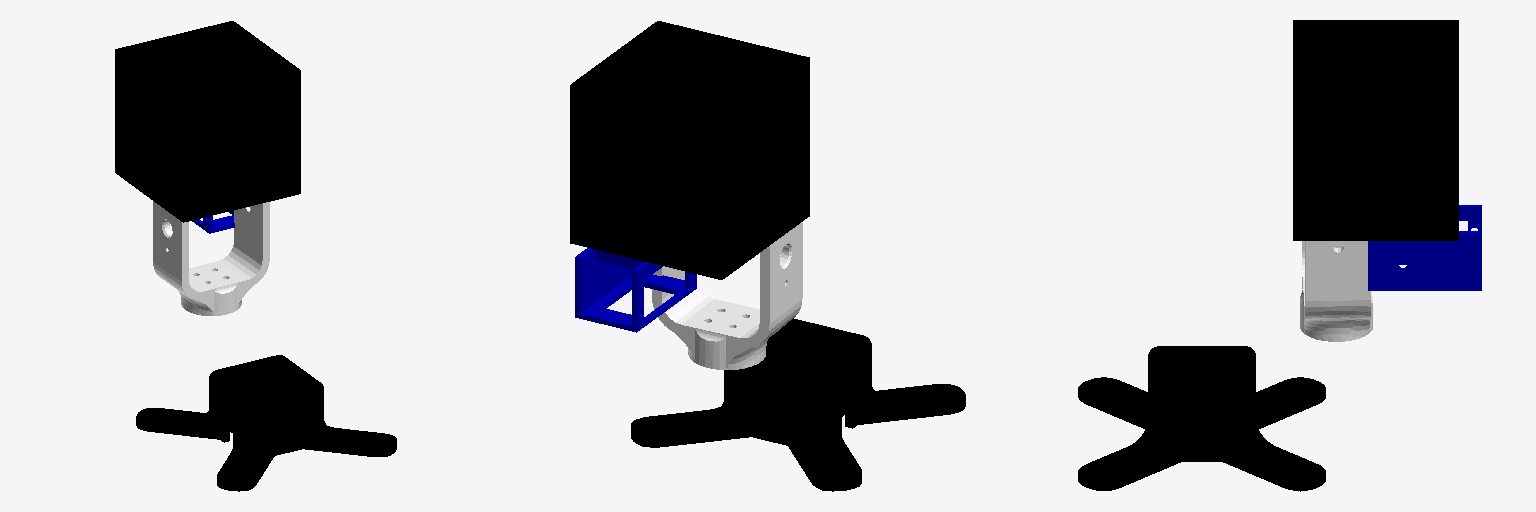
URDF robot description (headv1):
<?xml version="1.0"?>
<robot name="headv1">

<material name="blue">
    <color rgba="0 0 0.8 1"/>
  </material>
  <material name="black">
    <color rgba="0 0 0 1"/>
  </material>
  <material name="white">
    <color rgba="1 1 1 1"/>
  </material>

  <link name="base">
    <visual>
      <origin
        xyz="0 0 0"
        rpy="0 0 0" />
      <geometry>
        <mesh filename="package://headv1/meshes/base.dae" />
      </geometry>
      <material name="black"/>
    </visual>
  </link>
  
  <link name="mid">
    <visual>
      <origin xyz="0 -0.005 0.06" rpy="0 0 0" />
      <geometry>
        <mesh filename="package://headv1/meshes/mid.dae" />
      </geometry>
      <material name="white"/>
    </visual>
  </link>
  
  <joint name="base_to_mid" type="revolute">
    <origin
      xyz="0 0.06678 0"
      rpy="0 0 0" />
    <parent link="base" />
    <child link="mid" />
    <axis xyz="0 1 0" />
    <limit
      lower="-3.14"
      upper="3.14"
      effort="1"
      velocity="3.14" />
  </joint>
  
  <link name="servo">
    <visual>
      <origin
        xyz="0.02 0.03 0.1"
        rpy="1.57075 0 -1.57075" />
      <geometry>
        <mesh filename="package://headv1/meshes/servo.dae" />
      </geometry>
      <material name="blue"/>
    </visual>
  </link>
  
  <joint name="mid_to_servo" type="revolute">
    <origin
      xyz="0.019723 0.0381 -0.0023295"
      rpy="0 0 0" />
    <parent link="mid" />
    <child link="servo" />
    <axis xyz="0.9931 0 -0.11729" />
    <limit
      lower="-1"
      upper="2"
      effort="1"
      velocity="3.14" />
    <dynamics
      friction="1" />
  </joint>
  
  <link name="kinect">
    <visual>
      <origin
        xyz="0 -0.05 0.12"
        rpy="1.57075 0 0" />
      <geometry>
        <box size="0.08 0.08 0.08"/>
        <mesh filename="package://headv1/meshes/kinect.dae" />
      </geometry>
      <material name="black"/>
    </visual>
  </link>
  
  <joint name="servo_to_kinect" type="revolute">
    <origin
      xyz="-0.011055 0.028845 0.050732"
      rpy="0 0 0" />
    <parent link="servo" />
    <child link="kinect" />
    <axis xyz="0.11729 0.0069852 0.99307" />
    <limit
      lower="-1.57"
      upper="1.57"
      effort="1"
      velocity="3.14" />
    <dynamics friction="1" />
  </joint>
 
</robot>

--- What the picture shows (computed from the rendered views, not written in the file) ---
3 views of the same robot in one strip: view 1: azimuth 30°, elevation 25°; view 2: azimuth 150°, elevation 25°; view 3: azimuth 270°, elevation 25° (orthographic).
Model headv1 with 4 links and 3 joints (3 revolute), rooted at base, posed every joint at zero.
Links seen in each view (by area): view 1: kinect, base, mid; view 2: kinect, base, mid, servo; view 3: kinect, base, mid, servo.
Link boxes in pixels (x1=…): kinect: x1=115, y1=21, x2=300, y2=222; base: x1=136, y1=355, x2=396, y2=491; mid: x1=153, y1=201, x2=269, y2=315; kinect: x1=570, y1=21, x2=809, y2=279; base: x1=631, y1=318, x2=965, y2=491; mid: x1=652, y1=222, x2=802, y2=369; servo: x1=575, y1=248, x2=696, y2=332; kinect: x1=1293, y1=20, x2=1458, y2=240; base: x1=1078, y1=346, x2=1325, y2=491; mid: x1=1300, y1=241, x2=1372, y2=341; servo: x1=1368, y1=205, x2=1481, y2=290.
Size in the robot's own frame: 0.1196 by 0.1947 by 0.2079 metres.
Meshes: 3 distinct files referenced, 3 mesh visuals loaded (3 Collada DAE).
